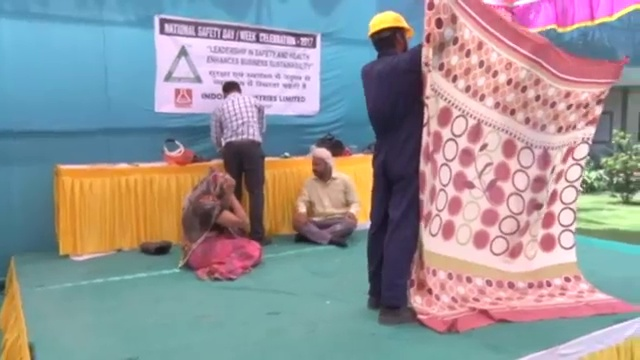helmet: (367, 11, 413, 38)
helmet_off: (205, 168, 232, 195), (310, 142, 330, 176), (221, 78, 242, 99)
helmet_on: (367, 10, 414, 54)
person: (357, 8, 423, 326), (210, 77, 272, 243), (179, 168, 260, 283), (290, 141, 361, 251)
